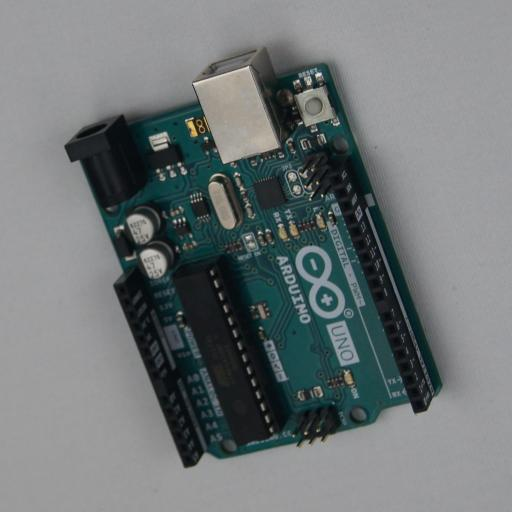Arduino Uno -Green-: (64, 47, 444, 468)
